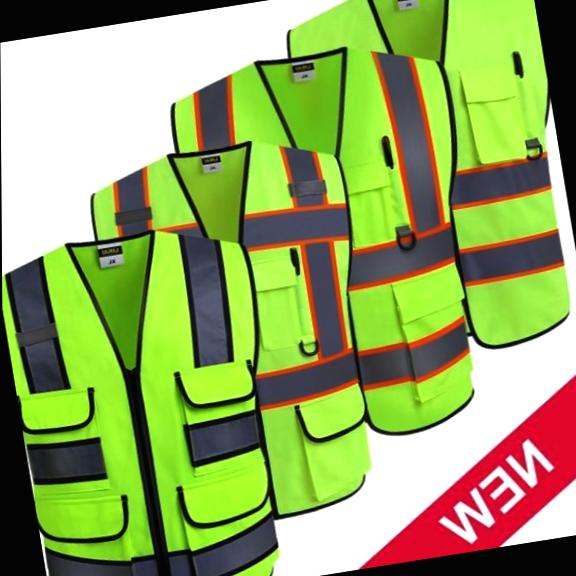safety_vest: (158, 26, 504, 465), (82, 131, 398, 539), (277, 0, 576, 368), (2, 213, 304, 576)
